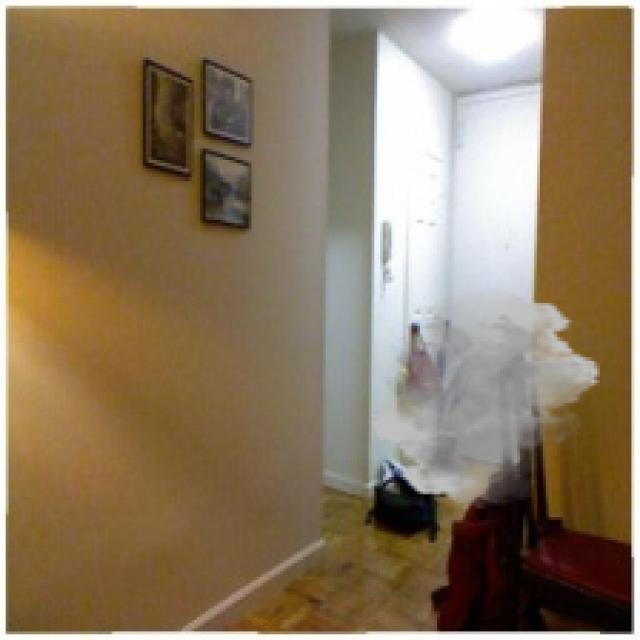smoke: (368, 288, 603, 508)
